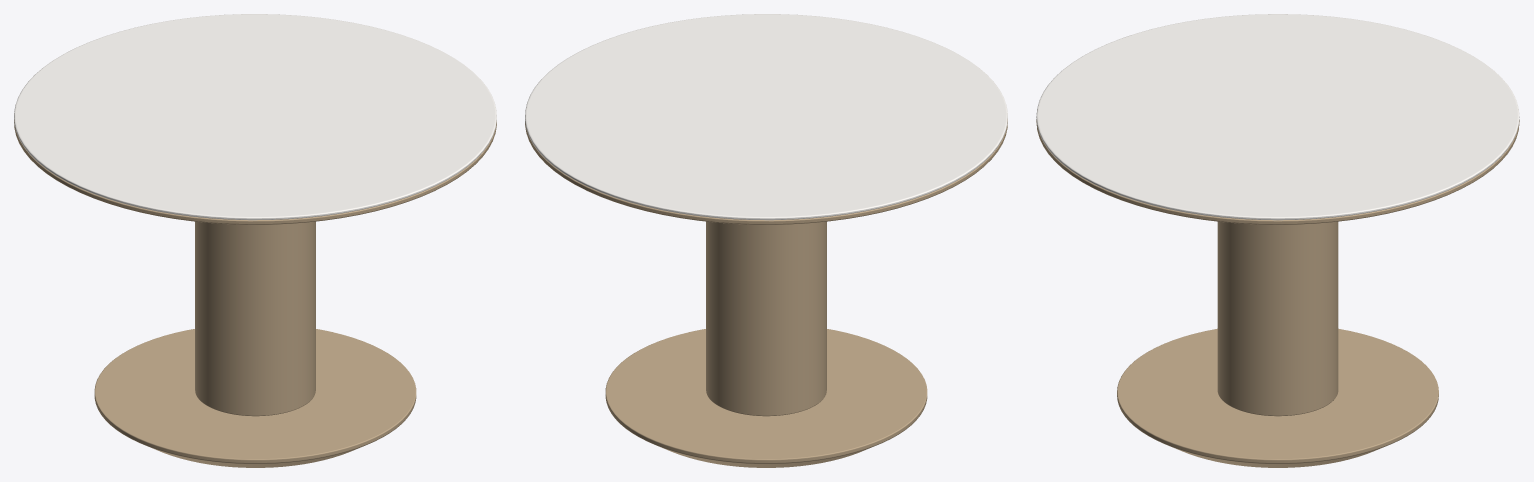
The model's file is orbit3d_d60h40.glb.
The picture shows the model from 3 angles, left to right: view 1: azimuth 30°, elevation 25°; view 2: azimuth 150°, elevation 25°; view 3: azimuth 270°, elevation 25°; orthographic projection.
Parts seen in each view (by area): view 1: Top Orbit Coffee Table 015, Base Orbit Coffee Table 015, Base Element Orbit Coffee Table 018, Undertop Orbit Coffee Table 015; view 2: Top Orbit Coffee Table 015, Base Orbit Coffee Table 015, Base Element Orbit Coffee Table 018, Undertop Orbit Coffee Table 015; view 3: Top Orbit Coffee Table 015, Base Orbit Coffee Table 015, Base Element Orbit Coffee Table 018, Undertop Orbit Coffee Table 015.
Part boxes in pixels (x1,y1,x2,y2): Top Orbit Coffee Table 015: (14,14,496,220); Base Orbit Coffee Table 015: (94,329,416,467); Base Element Orbit Coffee Table 018: (195,221,315,416); Undertop Orbit Coffee Table 015: (14,119,496,224); Top Orbit Coffee Table 015: (525,14,1007,220); Base Orbit Coffee Table 015: (605,329,927,467); Base Element Orbit Coffee Table 018: (706,221,826,416); Undertop Orbit Coffee Table 015: (525,119,1007,224); Top Orbit Coffee Table 015: (1036,14,1519,220); Base Orbit Coffee Table 015: (1117,328,1438,467); Base Element Orbit Coffee Table 018: (1217,221,1338,416); Undertop Orbit Coffee Table 015: (1036,119,1519,224).
Bounding box in the file's own units: 0.6 × 0.404 × 0.6.
